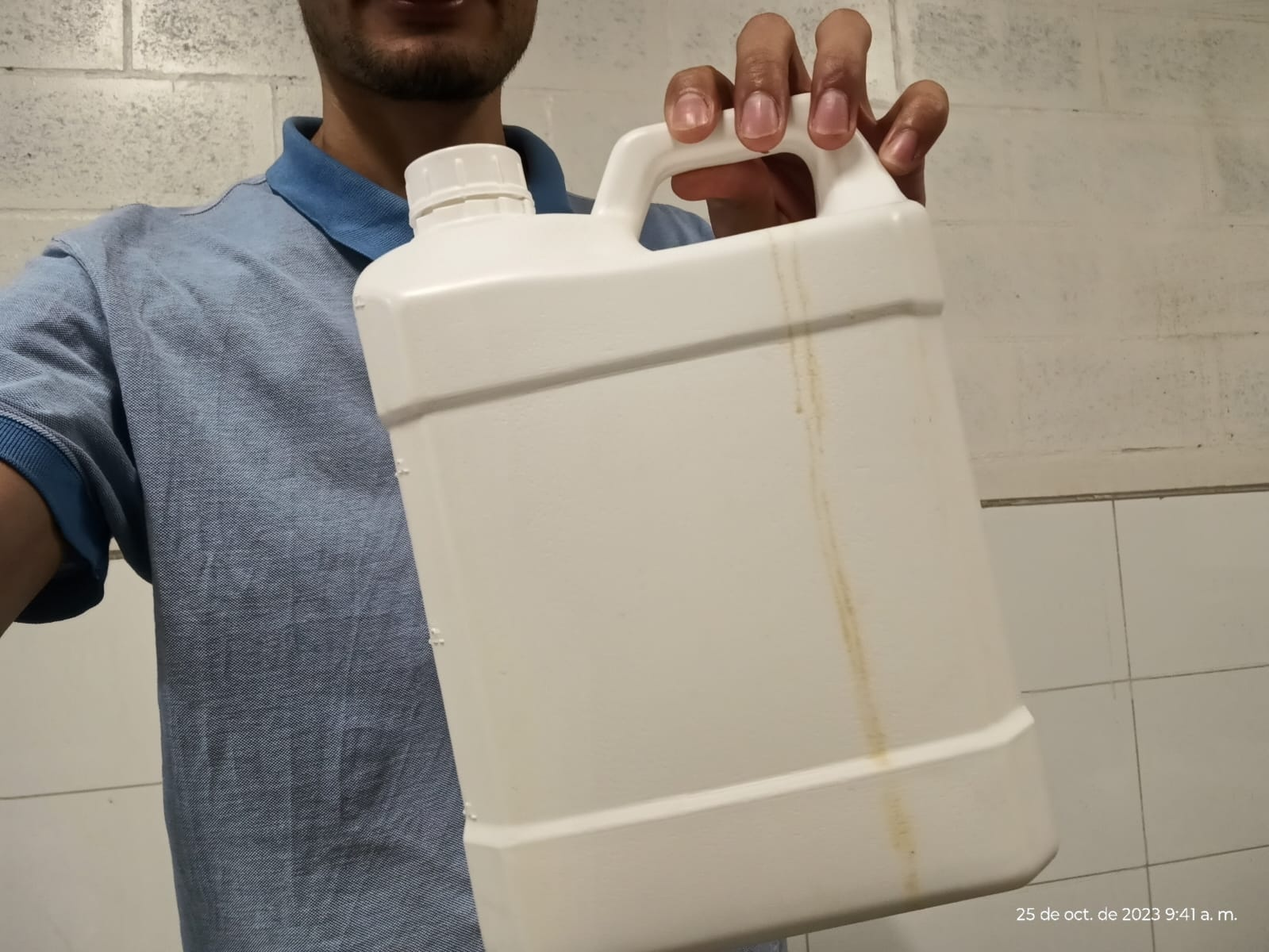Plastico: (355, 92, 1061, 952)
